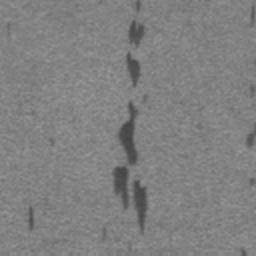Red iron sheet: (113, 101, 148, 231), (126, 53, 141, 87), (128, 20, 145, 47), (247, 125, 256, 147), (28, 207, 34, 230), (251, 6, 256, 21), (135, 0, 141, 11), (250, 86, 256, 94)
